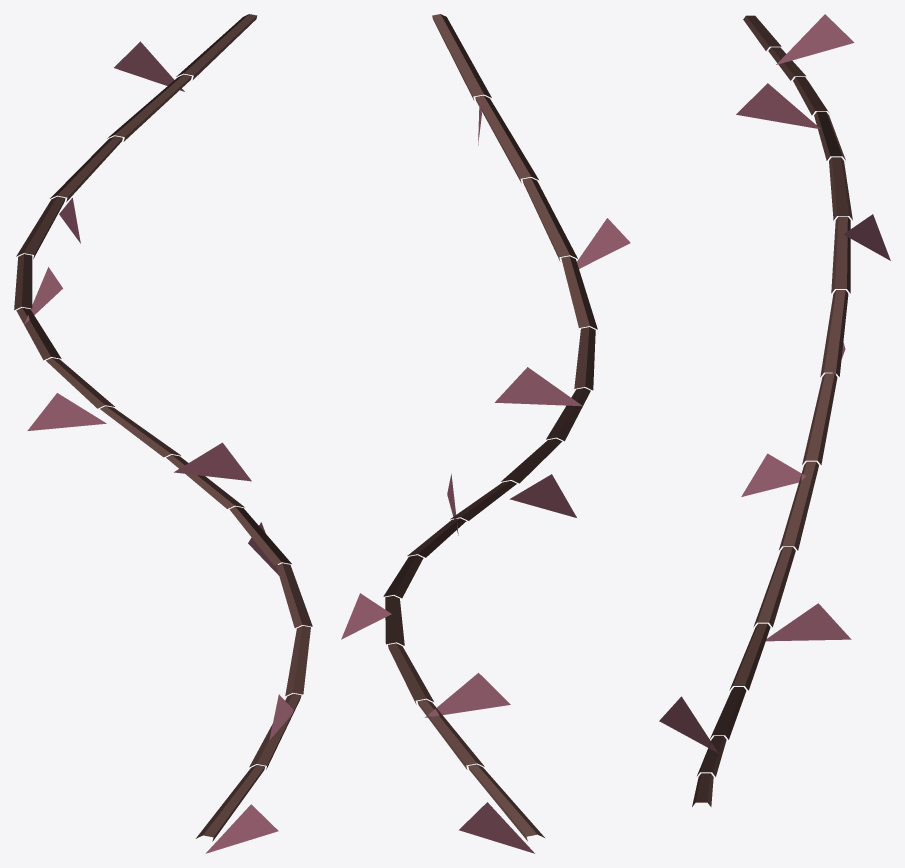
Rendered from vineclematis_1.glb.
3 renders of one model, left to right at view 1: azimuth 30°, elevation 25°; view 2: azimuth 150°, elevation 25°; view 3: azimuth 270°, elevation 25°, orthographic. The views are drawn at different scales.
Parts seen in each view (by area): view 1: VineClematis_1; view 2: VineClematis_1; view 3: VineClematis_1.
Part boxes in pixels (x1,y1,x2,y2): VineClematis_1: (14,14,312,853); VineClematis_1: (341,14,630,853); VineClematis_1: (659,14,890,806).
Size of the model in its own units: 0.5253 by 1.63 by 0.4087.
